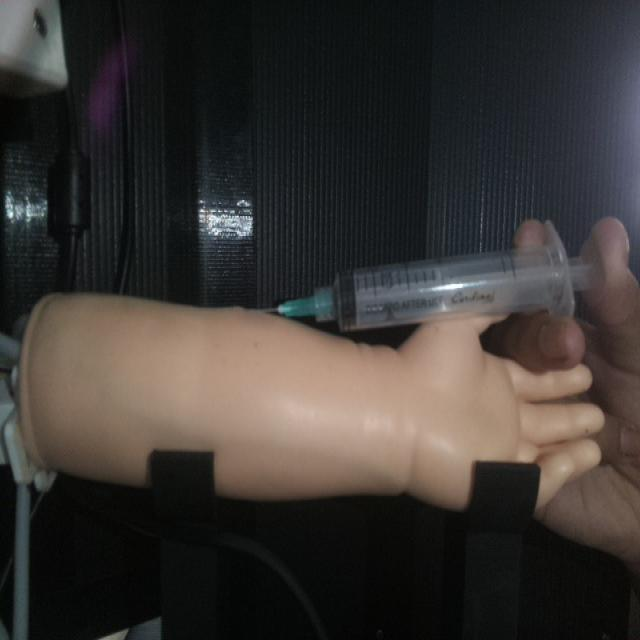Outside: (249, 218, 604, 333)
